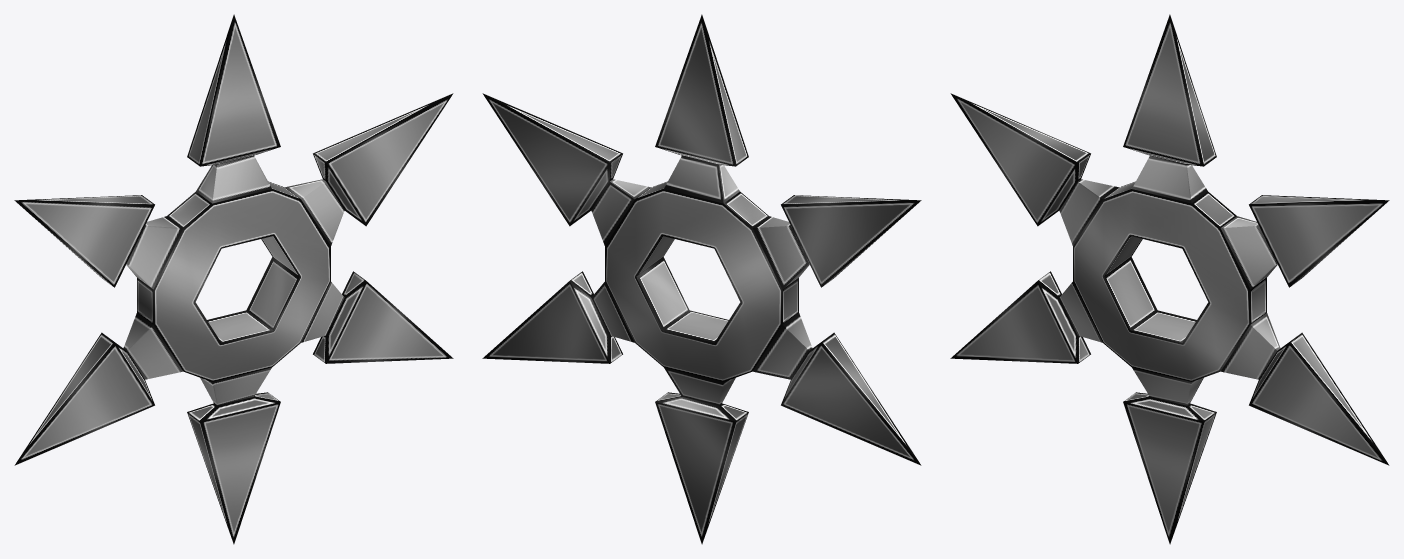
The model's file is Six spike shuriken.FBX.
3 views of the same model, side by side, from view 1: azimuth 30°, elevation 25°; view 2: azimuth 150°, elevation 25°; view 3: azimuth 330°, elevation 25° (orthographic).
Visible parts, largest first — view 1: Six spike Shuriken; view 2: Six spike Shuriken; view 3: Six spike Shuriken.
Boxes of the visible parts, left/top/right/bottom form: Six spike Shuriken: left=14, top=14, right=453, bottom=544; Six spike Shuriken: left=482, top=14, right=921, bottom=544; Six spike Shuriken: left=950, top=14, right=1389, bottom=544.
Bounding box in the file's own units: 8.67 × 0.9311 × 10.01.
